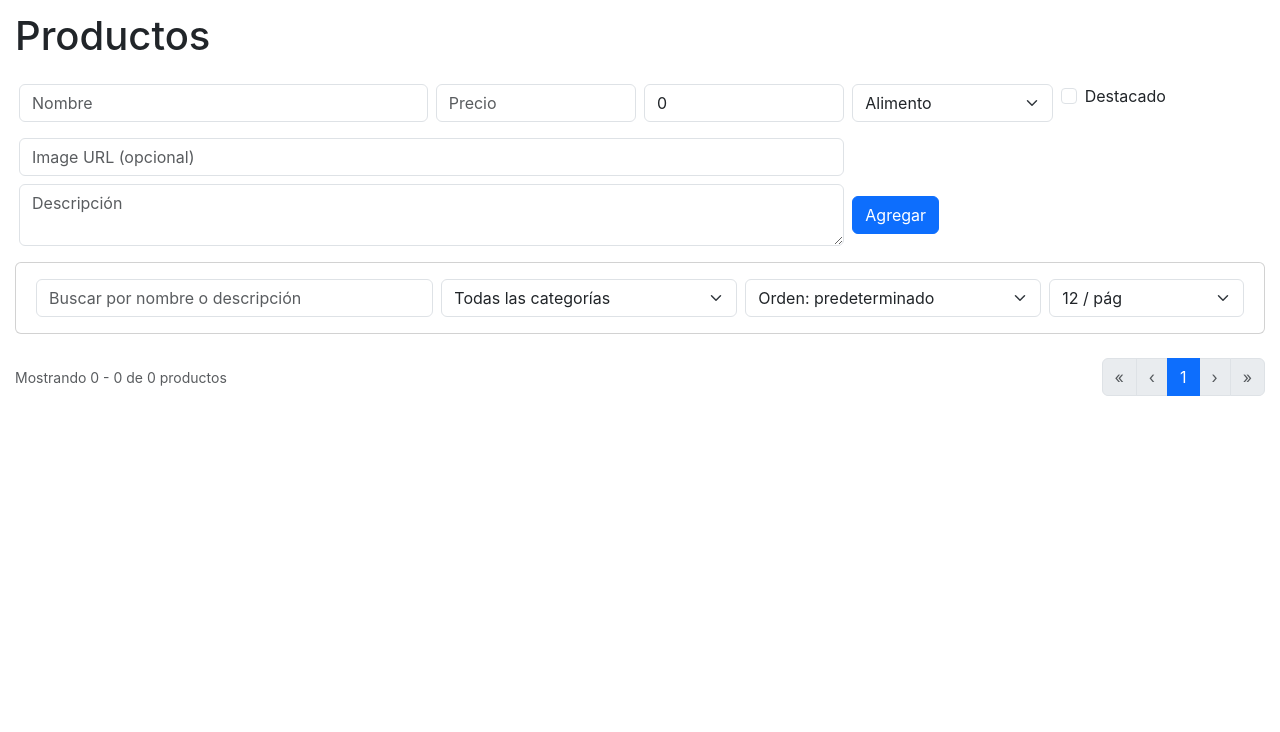
AdminProductos › permite crear y eliminar un producto
Type "TestProd" into the field with placeholder "Nombre" at (223,103), box [19,84,428,122]
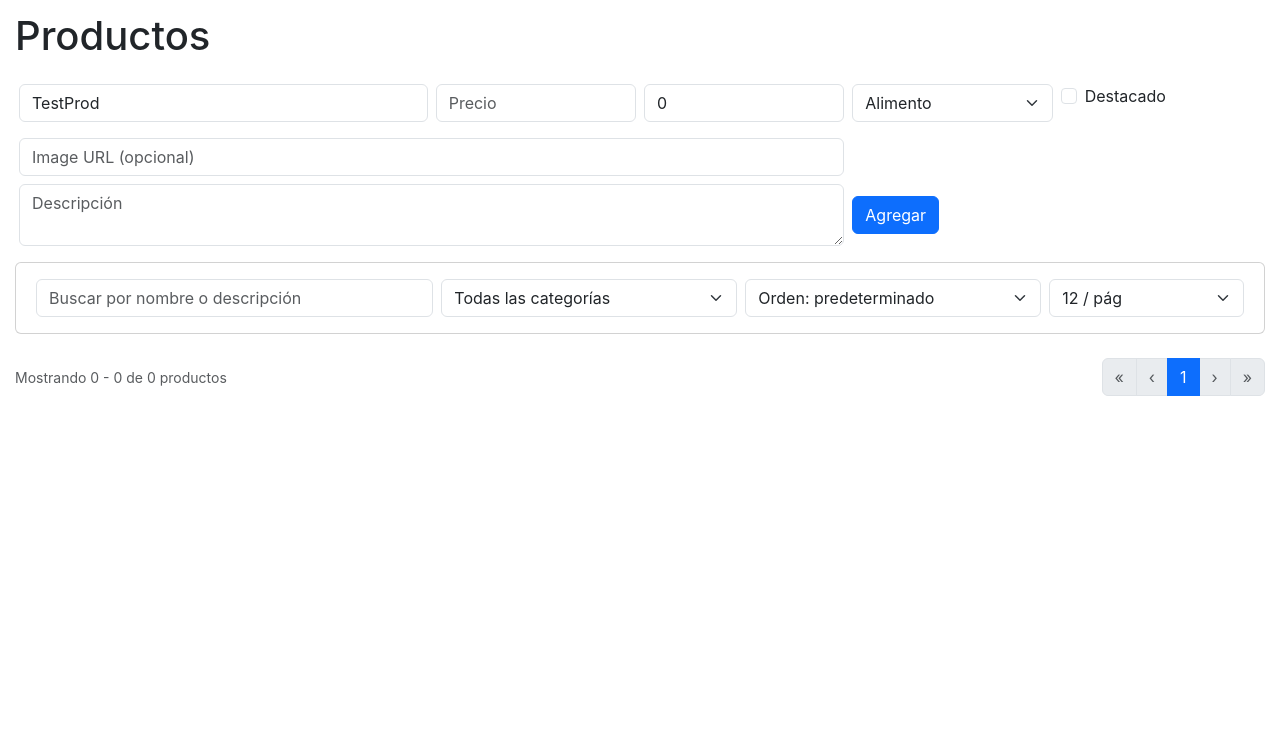
Type "100" into the number field with placeholder "Precio" at (536,103), box [436,84,636,122]
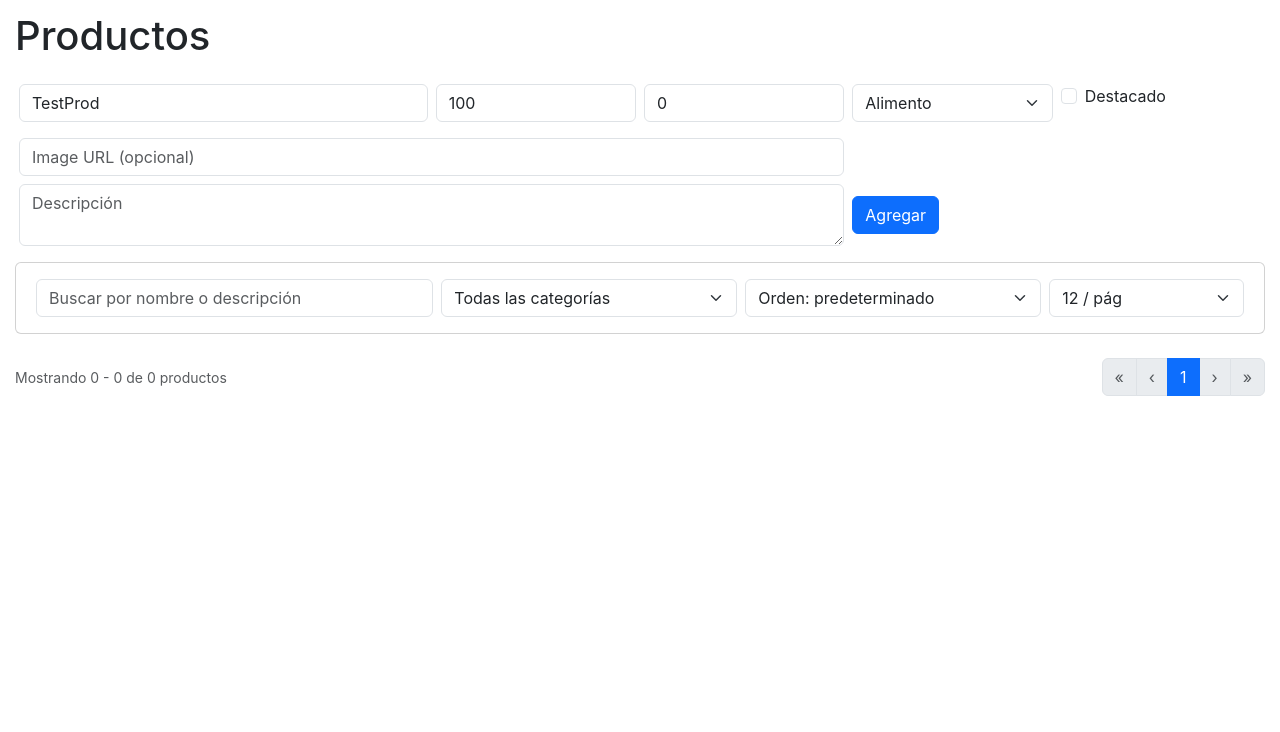
Click the button "Agregar" at (896,215), box [852,196,939,234]
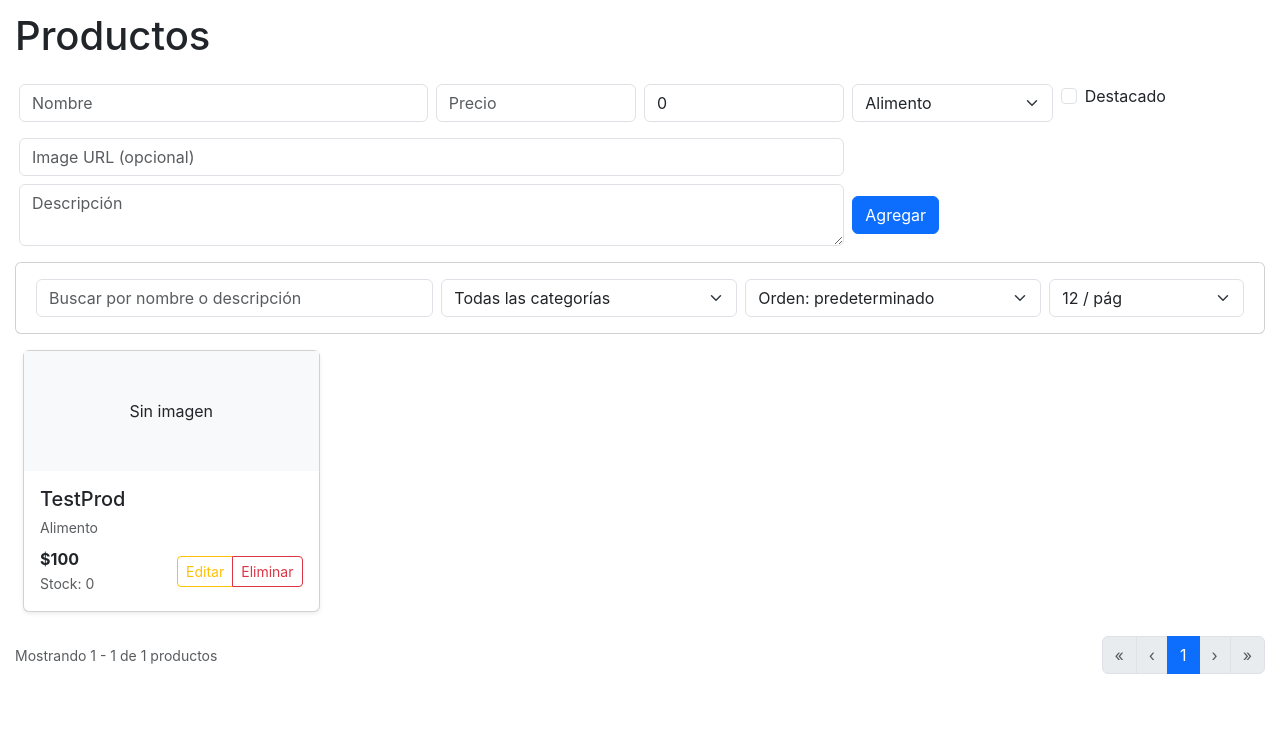
expect the heading "TestProd" is shown: met, box [40,487,126,511]
Click the button "Eliminar" at (267,571), box [232,556,302,586]
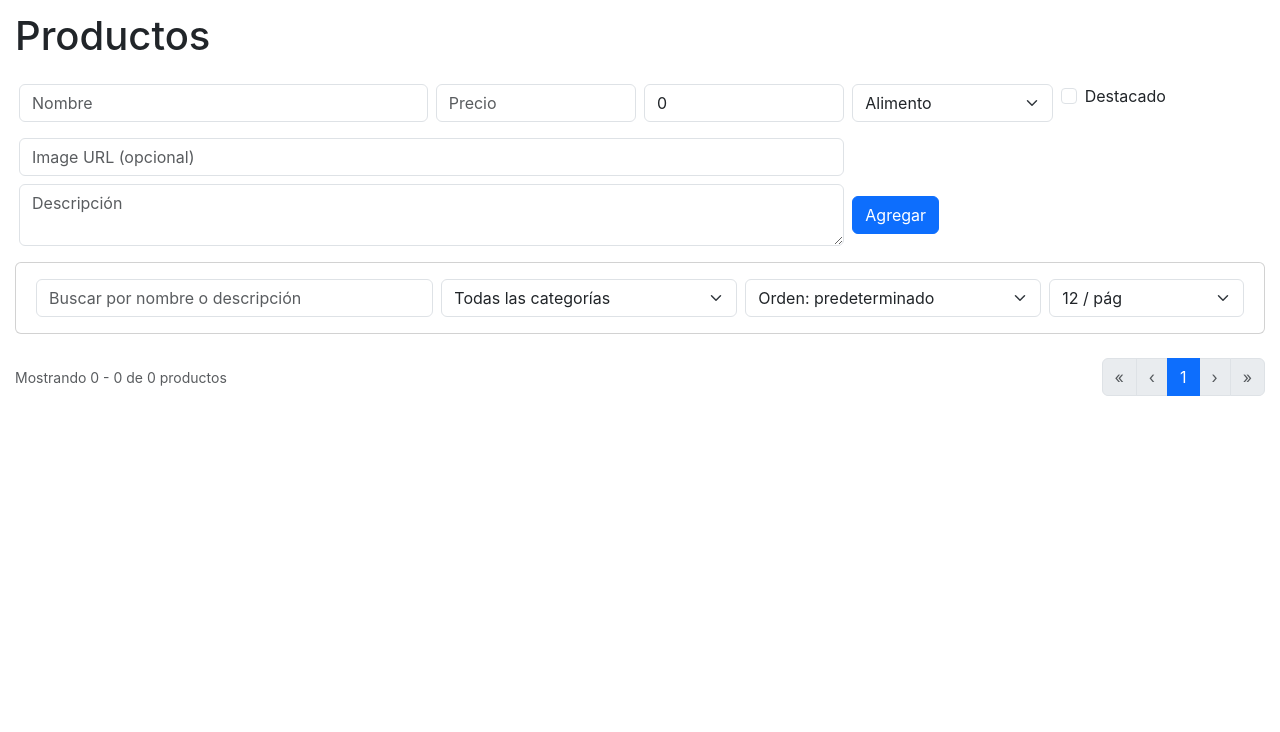
expect the heading "TestProd" is gone: met
